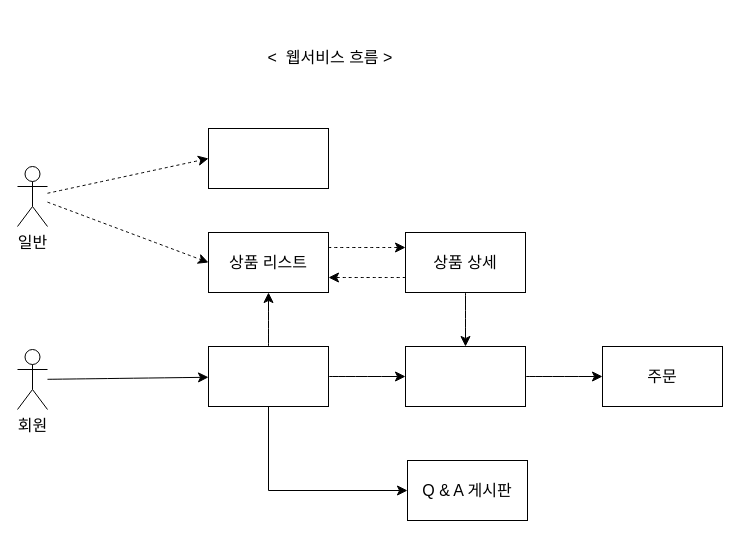
Some shapes in this 740 by 538 pixel diagram are drawn without their labels. Here are the shapes that lost their labels. From the top down, the centre of each, then its label:
At pixel 268 158: "회원가입".
At pixel 268 376: "로그인".
At pixel 465 376: "장바구니".
